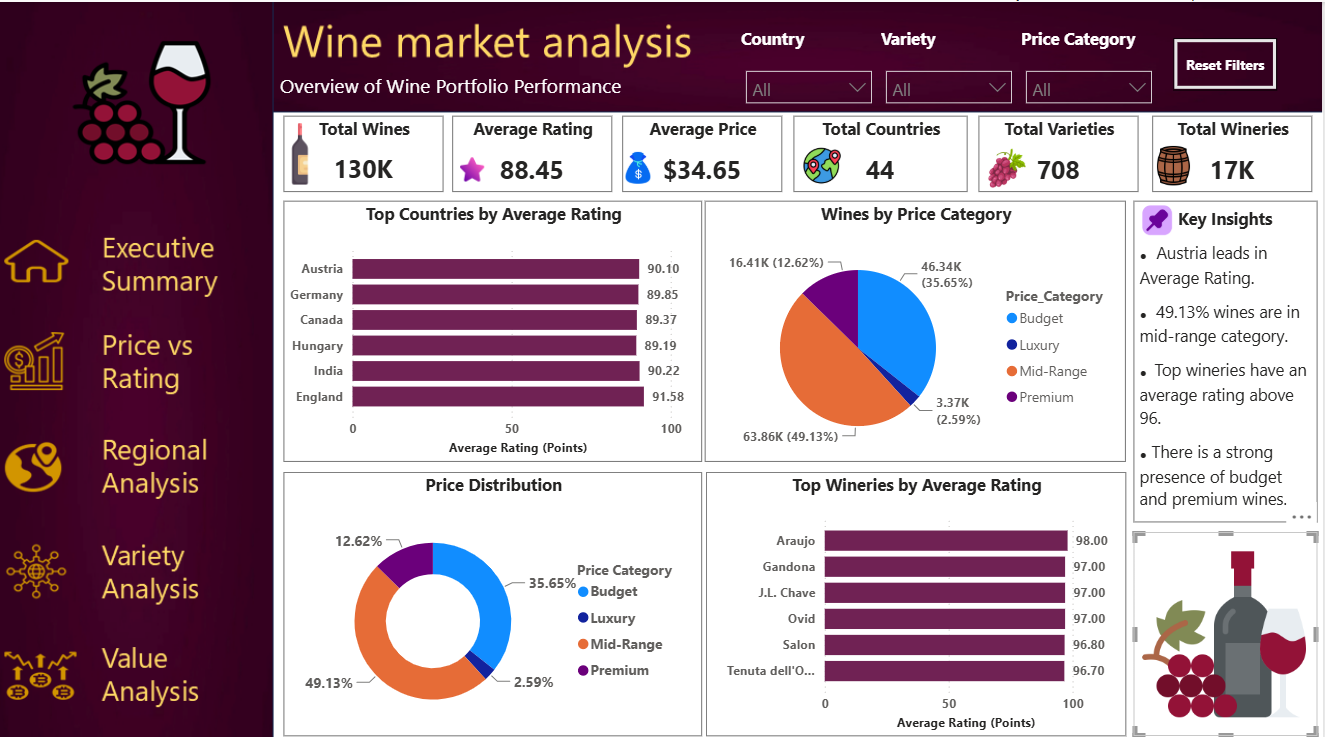

What the dashboard file says about the page in this screenshot:
{"tool":"powerbi","page":{"name":"Executive Summary","canvas":[1280,720],"ordinal":0},"visuals":[{"type":"textbox","box":[269,63.1,450.1,43.9],"z":0},{"type":"card","title":"Total Wines","fields":{"Values":["wine_data wine_insight.Total Wines"]},"box":[277.5,109.8,154.4,73.6],"z":1000},{"type":"image","box":[253.4,117,79.6,59.1],"z":2000},{"type":"card","title":"Average Rating","fields":{"Values":["wine_data wine_insight.Average Rating"]},"box":[440.4,109.8,154.4,73.6],"z":3000},{"type":"card","title":"Average Price","fields":{"Values":["wine_data wine_insight.Average Price"]},"box":[604.4,109.8,154.4,73.6],"z":4000},{"type":"card","title":"Total Countries","fields":{"Values":["Count(wine_data wine_insight.country)"]},"box":[769.7,109.8,167.7,73.6],"z":5000},{"type":"card","title":"Total Varieties","fields":{"Values":["Count(wine_data wine_insight.variety)"]},"box":[948.3,109.8,154.4,73.6],"z":6000},{"type":"card","title":"Total Wineries","fields":{"Values":["Count(wine_data wine_insight.winery)"]},"box":[1116,109.8,154.4,73.6],"z":7000},{"type":"image","box":[440.4,147.2,38.6,29],"z":8000},{"type":"image","box":[599.6,143.6,39.8,32.6],"z":9000},{"type":"image","box":[769.7,139.9,55.5,36.2],"z":10000},{"type":"image","box":[955.5,137.5,41,45.8],"z":11000},{"type":"image","box":[1116,135.1,41,45.8],"z":12000},{"type":"slicer","title":"Country","fields":{"Values":["wine_data wine_insight.country"]},"box":[719,24.1,135.1,77.2],"z":13000},{"type":"slicer","title":"Price Category","fields":{"Values":["wine_data wine_insight.price_category"]},"box":[989.3,24.1,135.1,77.2],"z":14000},{"type":"actionButton","title":"Reset Filters","box":[1136.7,34.8,100.2,50.1],"z":15000},{"type":"clusteredBarChart","title":"Top Countries by Average Rating ","fields":{"Category":["wine_data wine_insight.country"],"Y":["Avg(wine_data wine_insight.points)"]},"box":[277.5,191.8,404.2,252.1],"z":16000},{"type":"donutChart","title":"Price Distribution","fields":{"Category":["wine_data wine_insight.price_category"],"Y":["CountNonNull(wine_data wine_insight.id)"]},"box":[277.5,453.6,404.2,255.8],"z":17000},{"type":"clusteredBarChart","title":"Top Wineries by Average Rating ","fields":{"Category":["wine_data wine_insight.winery"],"Y":["Avg(wine_data wine_insight.points)"]},"box":[685.3,453.6,405.4,255.8],"z":18000},{"type":"pieChart","title":"Wines by Price Category","fields":{"Category":["wine_data wine_insight.price_category"],"Y":["Count(wine_data wine_insight.id)"]},"box":[684.1,191.8,406.6,252.1],"z":19000},{"type":"textbox","box":[1097.9,191.8,177.3,310.1],"z":20000},{"type":"image","box":[1105.1,191.8,31.4,37.4],"z":21000},{"type":"image","box":[1097.9,511.5,177.3,197.9],"z":22000},{"type":"slicer","title":"Variety","fields":{"Values":["wine_data wine_insight.variety"]},"box":[854.2,24.1,135.1,77.2],"z":23000},{"type":"actionButton","box":[0,306.1,268.5,80.7],"z":23001},{"type":"actionButton","box":[0,403.5,268.5,80.7],"z":23002},{"type":"actionButton","box":[0,512,268.5,80.7],"z":23003},{"type":"actionButton","box":[0,610.8,268.5,80.7],"z":23004},{"type":"actionButton","box":[0,214.3,268.5,80.7],"z":23005}]}

Visuals, with their boxes in screenshot pixels (x1, y1, x2, y2), scaled from the page's 1280x720 canvas onto the 1325x737 screenshot:
textbox: {"left": 278, "top": 65, "right": 744, "bottom": 110}
"Total Wines" card: {"left": 287, "top": 112, "right": 447, "bottom": 188}
image: {"left": 262, "top": 120, "right": 345, "bottom": 180}
"Average Rating" card: {"left": 456, "top": 112, "right": 616, "bottom": 188}
"Average Price" card: {"left": 626, "top": 112, "right": 785, "bottom": 188}
"Total Countries" card: {"left": 797, "top": 112, "right": 970, "bottom": 188}
"Total Varieties" card: {"left": 982, "top": 112, "right": 1141, "bottom": 188}
"Total Wineries" card: {"left": 1155, "top": 112, "right": 1315, "bottom": 188}
image: {"left": 456, "top": 151, "right": 496, "bottom": 180}
image: {"left": 621, "top": 147, "right": 662, "bottom": 180}
image: {"left": 797, "top": 143, "right": 854, "bottom": 180}
image: {"left": 989, "top": 141, "right": 1032, "bottom": 188}
image: {"left": 1155, "top": 138, "right": 1198, "bottom": 185}
"Country" slicer: {"left": 744, "top": 25, "right": 884, "bottom": 104}
"Price Category" slicer: {"left": 1024, "top": 25, "right": 1164, "bottom": 104}
"Reset Filters" actionButton: {"left": 1177, "top": 36, "right": 1280, "bottom": 87}
"Top Countries by Average Rating " clusteredBarChart: {"left": 287, "top": 196, "right": 706, "bottom": 454}
"Price Distribution" donutChart: {"left": 287, "top": 464, "right": 706, "bottom": 726}
"Top Wineries by Average Rating " clusteredBarChart: {"left": 709, "top": 464, "right": 1129, "bottom": 726}
"Wines by Price Category" pieChart: {"left": 708, "top": 196, "right": 1129, "bottom": 454}
textbox: {"left": 1136, "top": 196, "right": 1320, "bottom": 514}
image: {"left": 1144, "top": 196, "right": 1176, "bottom": 235}
image: {"left": 1136, "top": 524, "right": 1320, "bottom": 726}
"Variety" slicer: {"left": 884, "top": 25, "right": 1024, "bottom": 104}
actionButton: {"left": 0, "top": 313, "right": 278, "bottom": 396}
actionButton: {"left": 0, "top": 413, "right": 278, "bottom": 496}
actionButton: {"left": 0, "top": 524, "right": 278, "bottom": 607}
actionButton: {"left": 0, "top": 625, "right": 278, "bottom": 708}
actionButton: {"left": 0, "top": 219, "right": 278, "bottom": 302}
